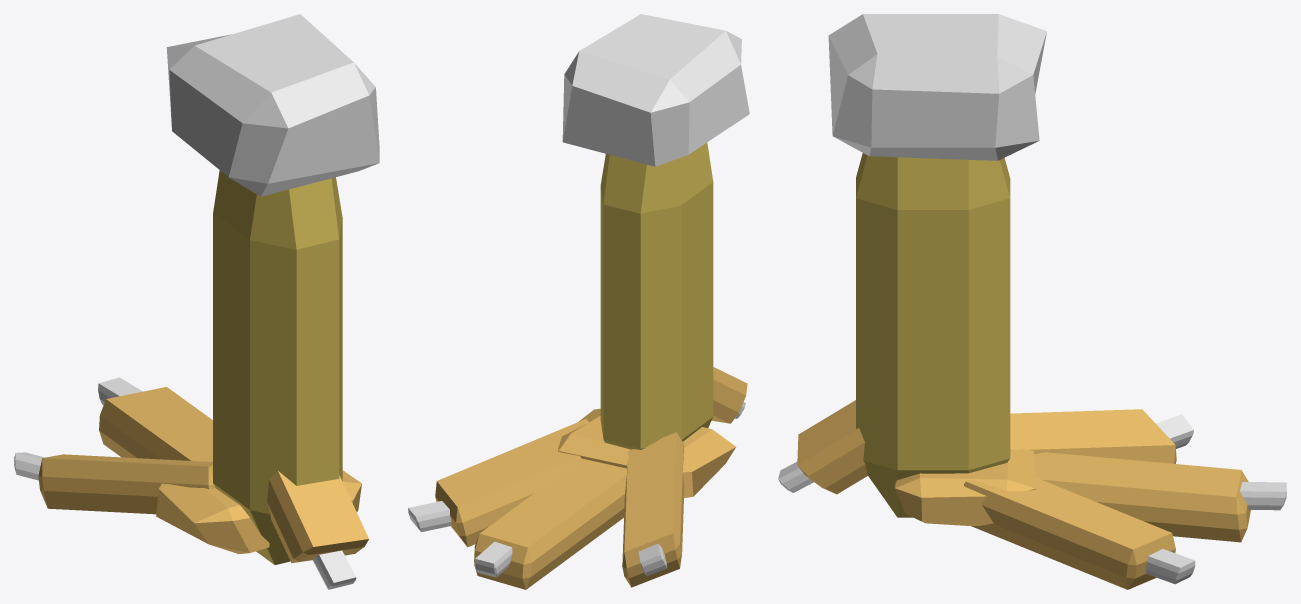
The model's file is chimken.fbx.
3 views of the same model, side by side, from view 1: azimuth 30°, elevation 25°; view 2: azimuth 150°, elevation 25°; view 3: azimuth 270°, elevation 25° (orthographic). The views are drawn at different scales.
Visible parts, largest first — view 1: Cube, Cube.001, Cube.004, Cube.002, Cube.005, Cube.010, Cube.009, Cube.006, Cube.007; view 2: Cube, Cube.001, Cube.002, Cube.003, Cube.004, Cube.010, Cube.005, Cube.008, Cube.006, Cube.007; view 3: Cube, Cube.001, Cube.002, Cube.003, Cube.004, Cube.010, Cube.005, Cube.008, Cube.006, Cube.007.
Boxes of the visible parts, x1=… form: Cube: x1=213, y1=170, x2=342, y2=564; Cube.001: x1=166, y1=14, x2=379, y2=196; Cube.004: x1=38, y1=454, x2=215, y2=514; Cube.002: x1=99, y1=387, x2=212, y2=461; Cube.005: x1=267, y1=470, x2=368, y2=563; Cube.010: x1=156, y1=461, x2=361, y2=553; Cube.009: x1=312, y1=550, x2=356, y2=589; Cube.006: x1=98, y1=377, x2=142, y2=404; Cube.007: x1=14, y1=452, x2=44, y2=480; Cube: x1=600, y1=142, x2=713, y2=449; Cube.001: x1=562, y1=14, x2=749, y2=166; Cube.002: x1=474, y1=458, x2=626, y2=589; Cube.003: x1=435, y1=419, x2=588, y2=547; Cube.004: x1=622, y1=432, x2=684, y2=587; Cube.010: x1=558, y1=408, x2=735, y2=498; Cube.005: x1=711, y1=367, x2=747, y2=423; Cube.008: x1=408, y1=501, x2=451, y2=531; Cube.006: x1=474, y1=541, x2=512, y2=577; Cube.007: x1=638, y1=543, x2=667, y2=575; Cube: x1=856, y1=153, x2=1010, y2=517; Cube.001: x1=828, y1=14, x2=1046, y2=160; Cube.002: x1=1034, y1=452, x2=1250, y2=542; Cube.003: x1=964, y1=477, x2=1175, y2=589; Cube.004: x1=1010, y1=409, x2=1176, y2=463; Cube.010: x1=894, y1=449, x2=1035, y2=525; Cube.005: x1=797, y1=400, x2=867, y2=494; Cube.008: x1=1145, y1=549, x2=1195, y2=584; Cube.006: x1=1240, y1=482, x2=1286, y2=510; Cube.007: x1=1156, y1=414, x2=1193, y2=448.
Bounding box in the file's own units: 636 × 1070 × 987.
